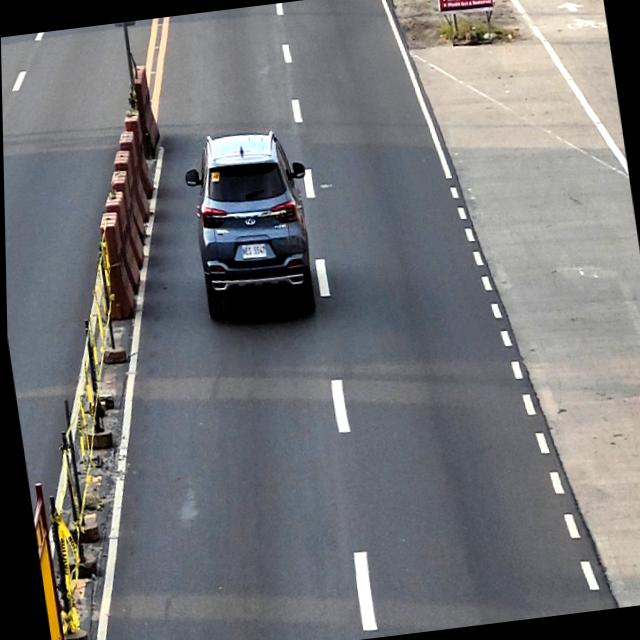Car: (179, 124, 324, 326)
License-Plate: (239, 242, 266, 260)
